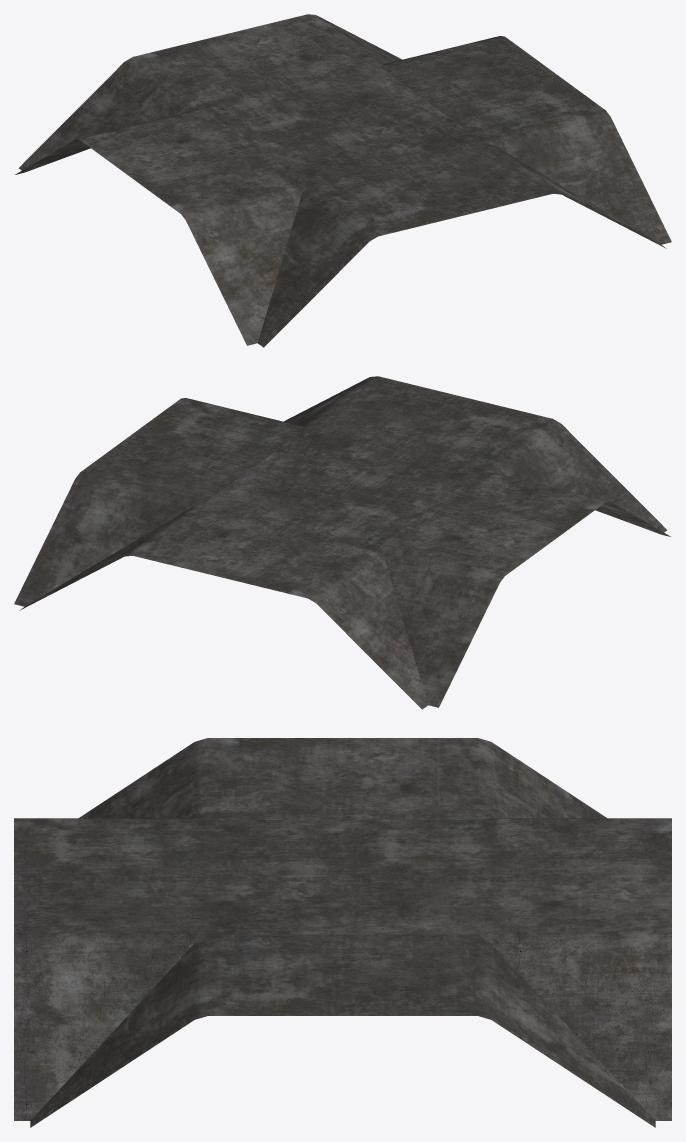
File: Basement_Corridor_A_Ceiling_Arched_Junction.glb
3 renders of one model, top to bottom at view 1: azimuth 30°, elevation 25°; view 2: azimuth 150°, elevation 25°; view 3: azimuth 270°, elevation 25°, orthographic. The views are drawn at different scales.
Visible parts, largest first — view 1: Basement_Corridor_A_Ceiling_Arched_Junction; view 2: Basement_Corridor_A_Ceiling_Arched_Junction; view 3: Basement_Corridor_A_Ceiling_Arched_Junction.
Boxes of the visible parts, left/top/right/bottom form: Basement_Corridor_A_Ceiling_Arched_Junction: left=15, top=14, right=671, bottom=347; Basement_Corridor_A_Ceiling_Arched_Junction: left=14, top=376, right=670, bottom=709; Basement_Corridor_A_Ceiling_Arched_Junction: left=14, top=738, right=671, bottom=1127.
Bounding box in the file's own units: 4 × 0.75 × 4.
Materials: 1 (1 with a texture image).
